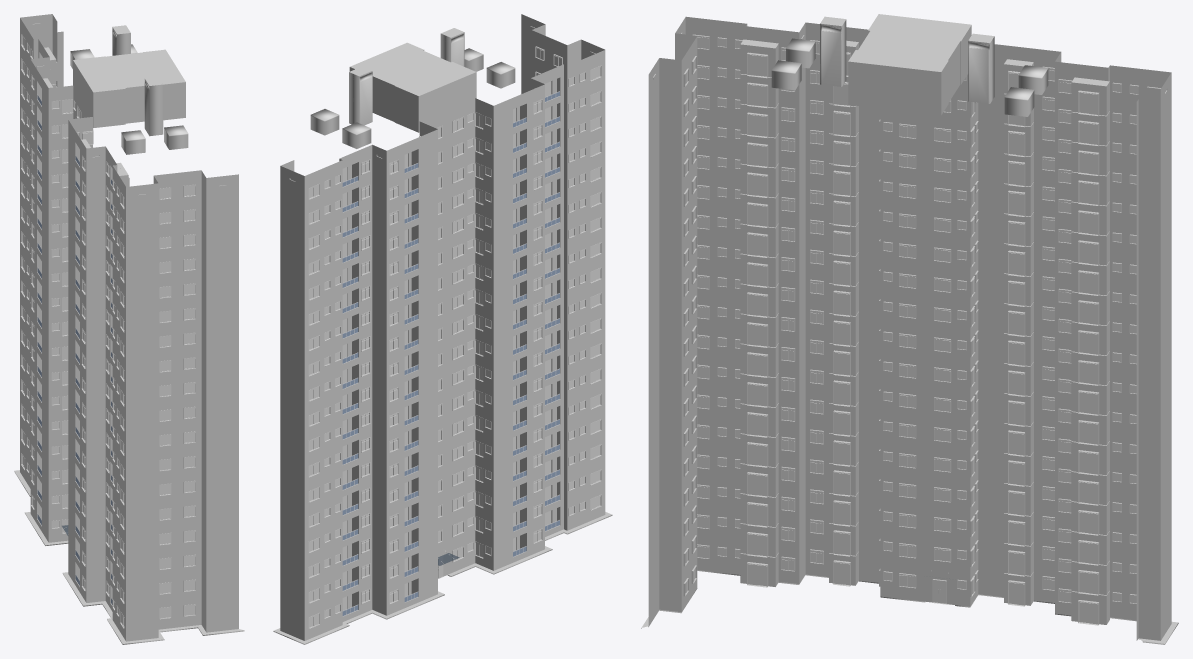
File: Torre02_Interna.fbx
3 views of the same model, side by side, from view 1: azimuth 30°, elevation 25°; view 2: azimuth 150°, elevation 25°; view 3: azimuth 270°, elevation 25° (orthographic). The views are drawn at different scales.
Parts seen in each view (by area): view 1: Torre02, Vidros_parepeito_Torre02; view 2: Torre02, Vidros_parepeito_Torre02; view 3: Torre02.
Boxes of the visible parts, x1,y1,x2,y2 form: Torre02: (14, 14, 244, 644); Vidros_parepeito_Torre02: (37, 95, 112, 604); Torre02: (273, 14, 612, 644); Vidros_parepeito_Torre02: (342, 91, 559, 615); Torre02: (641, 14, 1178, 644).
Size of the model in its own units: 1830 by 5674 by 4600.
